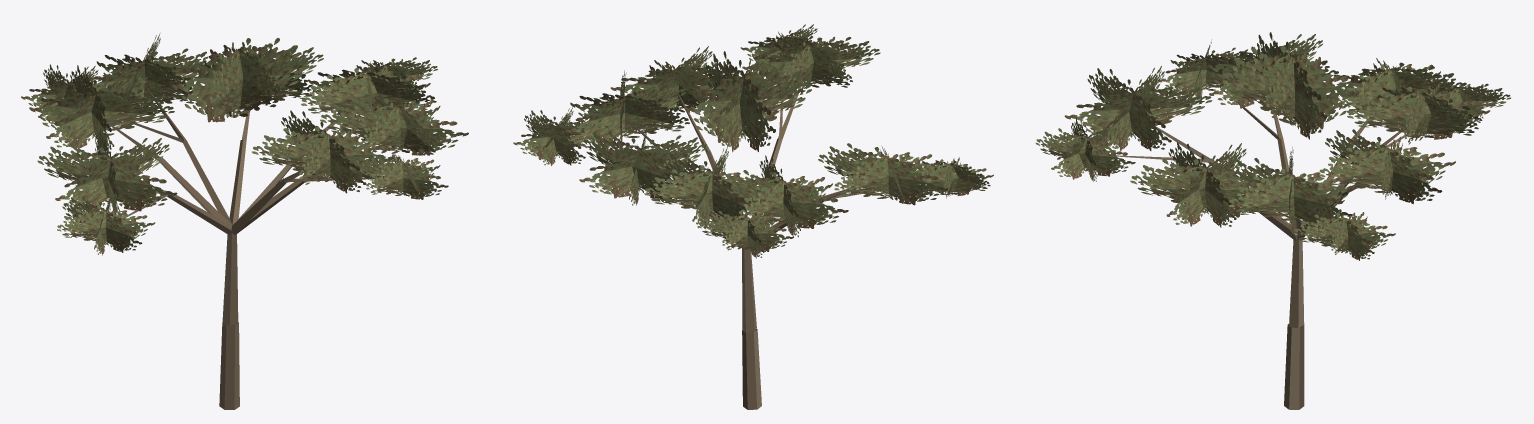
Rendered from Park_Tree_02_Umbrella.fbx.
3 renders of one model, left to right at view 1: azimuth 30°, elevation 25°; view 2: azimuth 150°, elevation 25°; view 3: azimuth 270°, elevation 25°, orthographic. The views are drawn at different scales.
Parts seen in each view (by area): view 1: Park_Tree_02_Umbrella.001; view 2: Park_Tree_02_Umbrella.001; view 3: Park_Tree_02_Umbrella.001.
Part boxes in pixels (x1,y1,x2,y2): Park_Tree_02_Umbrella.001: (21, 33, 468, 409); Park_Tree_02_Umbrella.001: (513, 24, 993, 409); Park_Tree_02_Umbrella.001: (1035, 32, 1510, 409).
Bounding box in the file's own units: 593 × 461 × 560.
